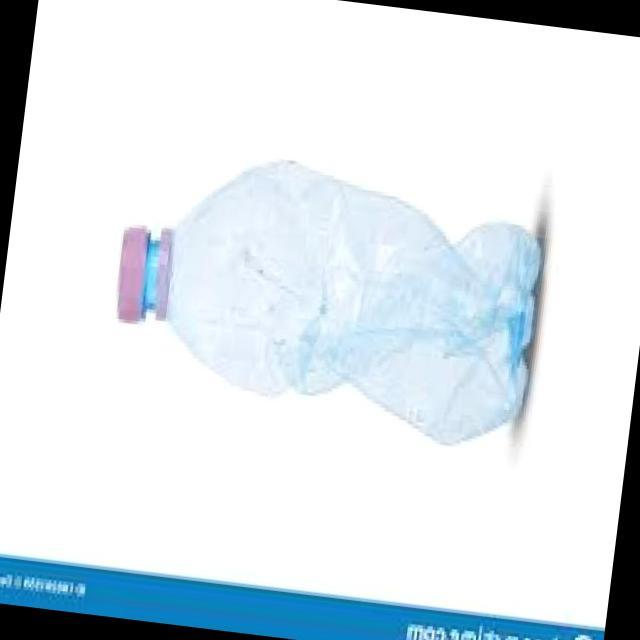defected: (69, 132, 562, 482)
